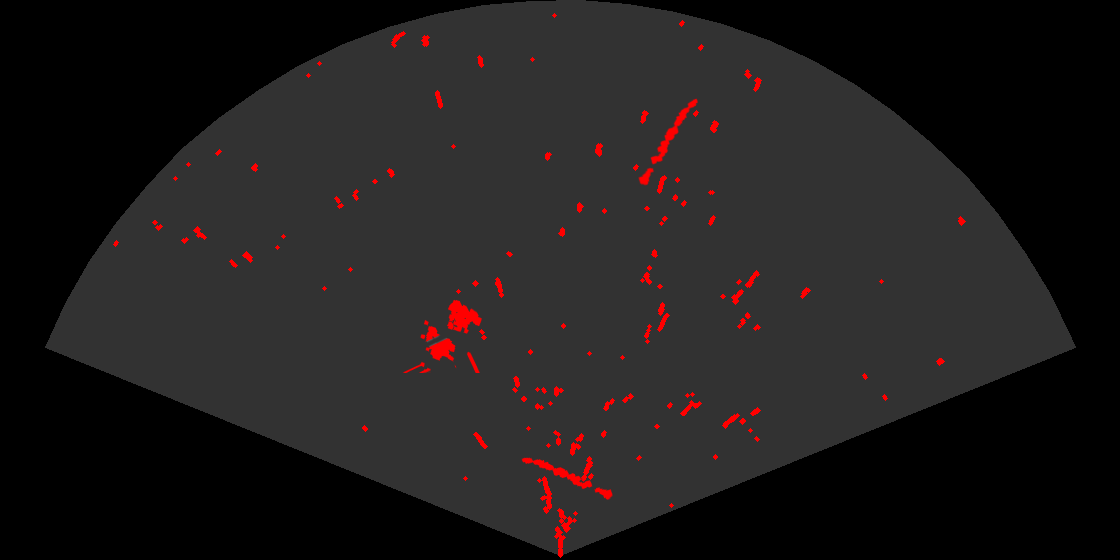cage: (402, 298, 483, 373)
chain: (637, 97, 700, 187), (520, 456, 614, 501)
